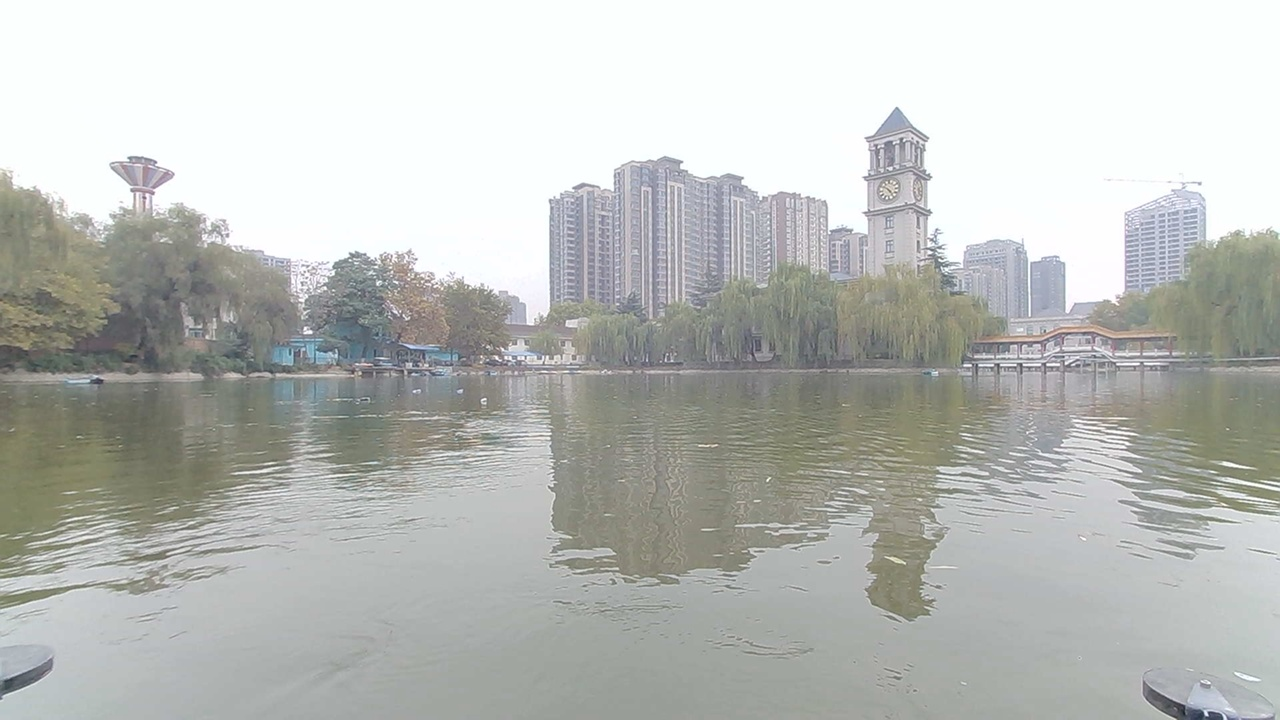bottle: (352, 387, 388, 417), (470, 386, 503, 414), (404, 379, 433, 404), (440, 378, 476, 397)
